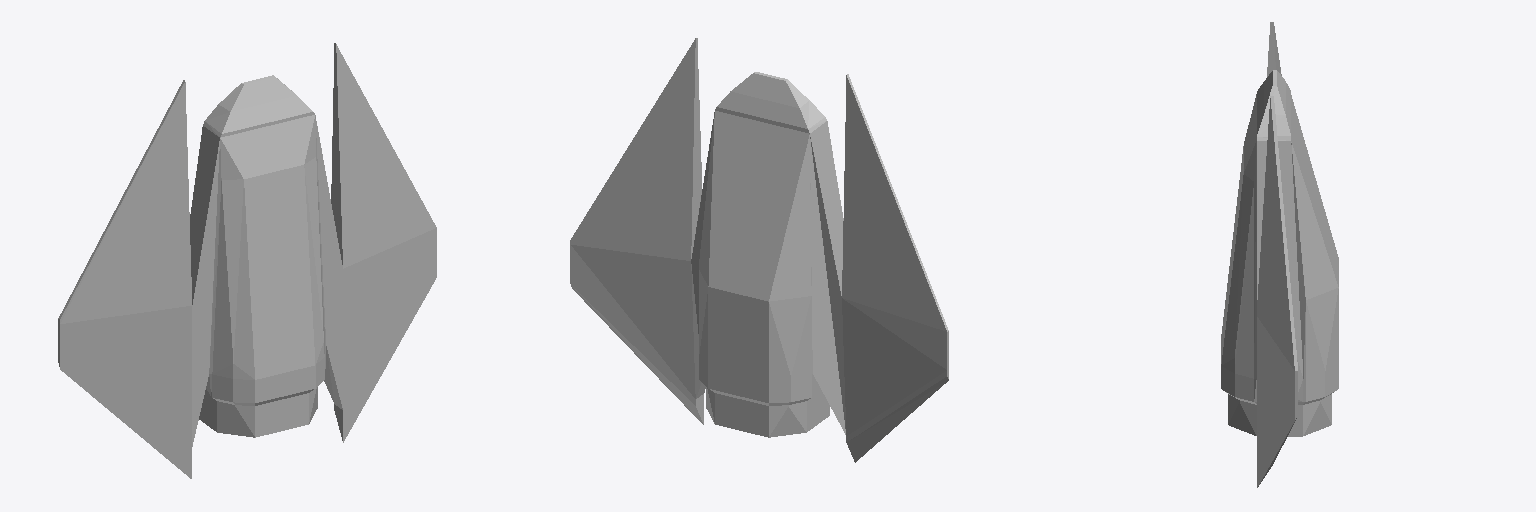
File: PSM2 Fix.obj
The picture shows the model from 3 angles: view 1: azimuth 30°, elevation 25°; view 2: azimuth 150°, elevation 25°; view 3: azimuth 270°, elevation 25°; orthographic projection.
Visible parts, largest first — view 1: PlayerShip_V2; view 2: PlayerShip_V2; view 3: PlayerShip_V2.
Boxes of the visible parts, x1=… form: PlayerShip_V2: x1=58, y1=43, x2=436, y2=478; PlayerShip_V2: x1=570, y1=38, x2=948, y2=462; PlayerShip_V2: x1=1221, y1=22, x2=1338, y2=487.
Size of the model in its own units: 3 by 3 by 0.81.